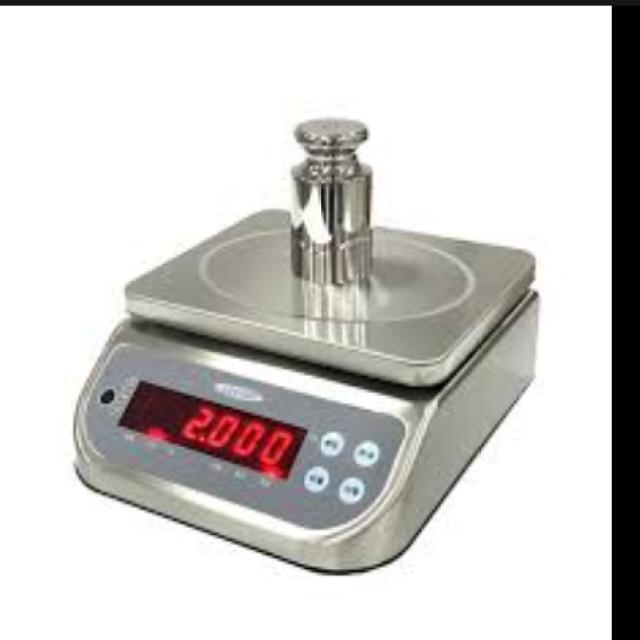.: (197, 434, 205, 443)
0: (236, 418, 264, 456), (263, 428, 294, 462), (212, 413, 238, 449)
2: (181, 406, 212, 439)
screen: (120, 377, 300, 466)
